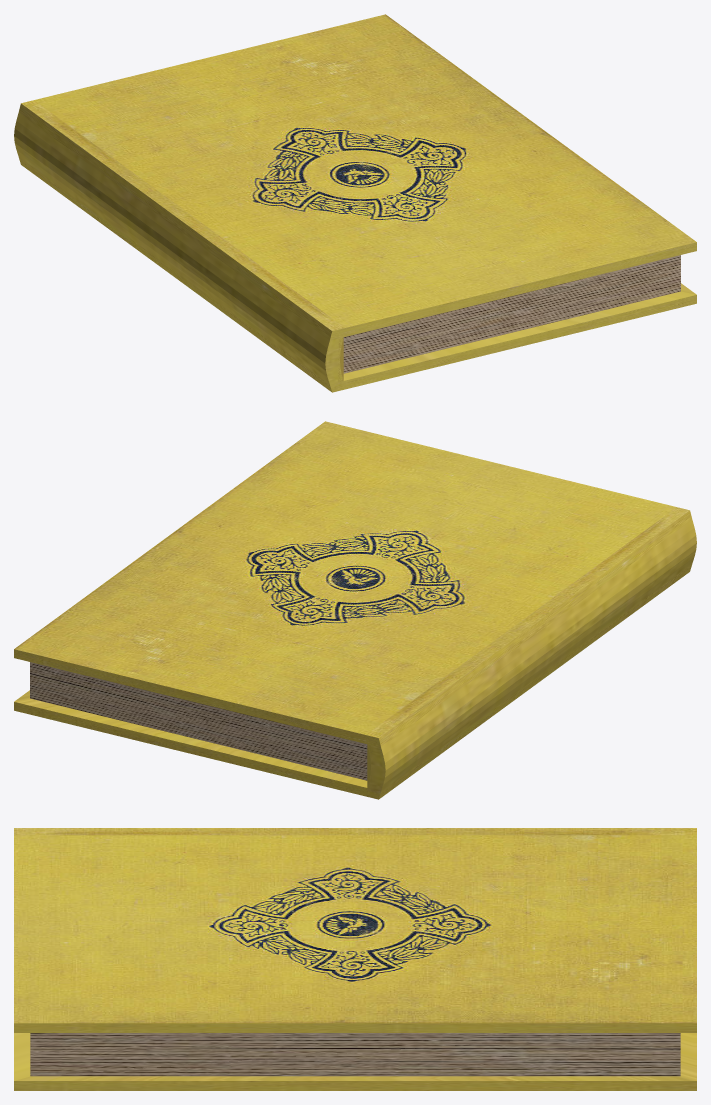
The model's file is livro_amarelo.glb.
3 renders of one model, top to bottom at view 1: azimuth 30°, elevation 25°; view 2: azimuth 150°, elevation 25°; view 3: azimuth 270°, elevation 25°, orthographic. The views are drawn at different scales.
Parts seen in each view (by area): view 1: Cube; view 2: Cube; view 3: Cube.
Boxes of the visible parts, x1,y1,x2,y2 form: Cube: (14, 14, 696, 392); Cube: (14, 421, 696, 799); Cube: (14, 828, 696, 1090).
Size of the model in its own units: 0.5992 by 0.0947 by 0.8693.
Materials: 2 (2 with a texture image).
